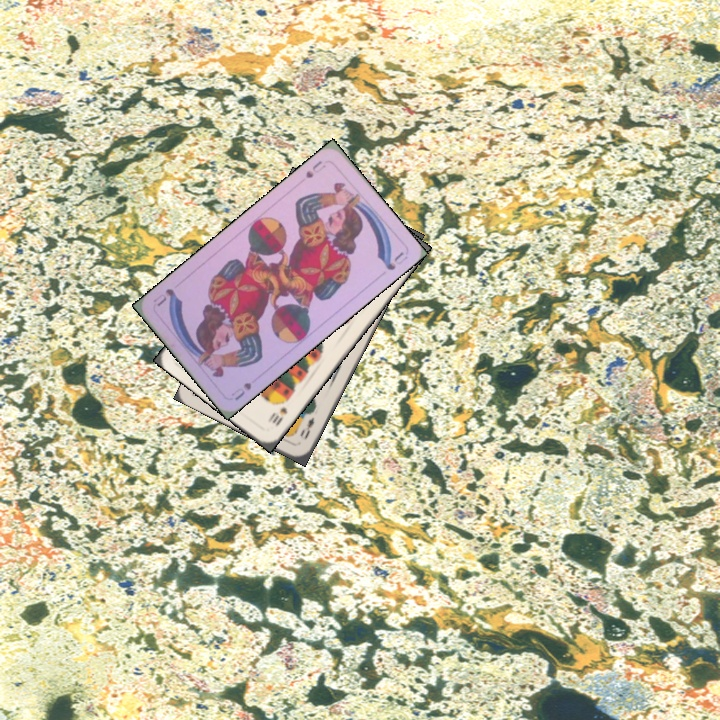EO: (296, 413, 317, 443)
S10: (264, 403, 290, 428)
SU: (301, 156, 329, 181), (227, 378, 254, 403)
